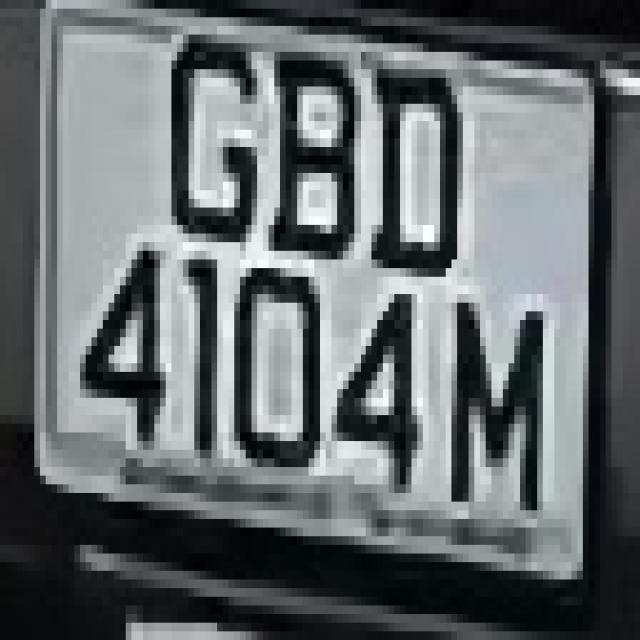0: (223, 260, 331, 510)
1: (183, 259, 228, 493)
4: (75, 208, 172, 467), (337, 251, 429, 484)
B: (269, 26, 360, 268)
D: (377, 52, 474, 294)
G: (154, 8, 280, 260)
M: (440, 251, 554, 510)
